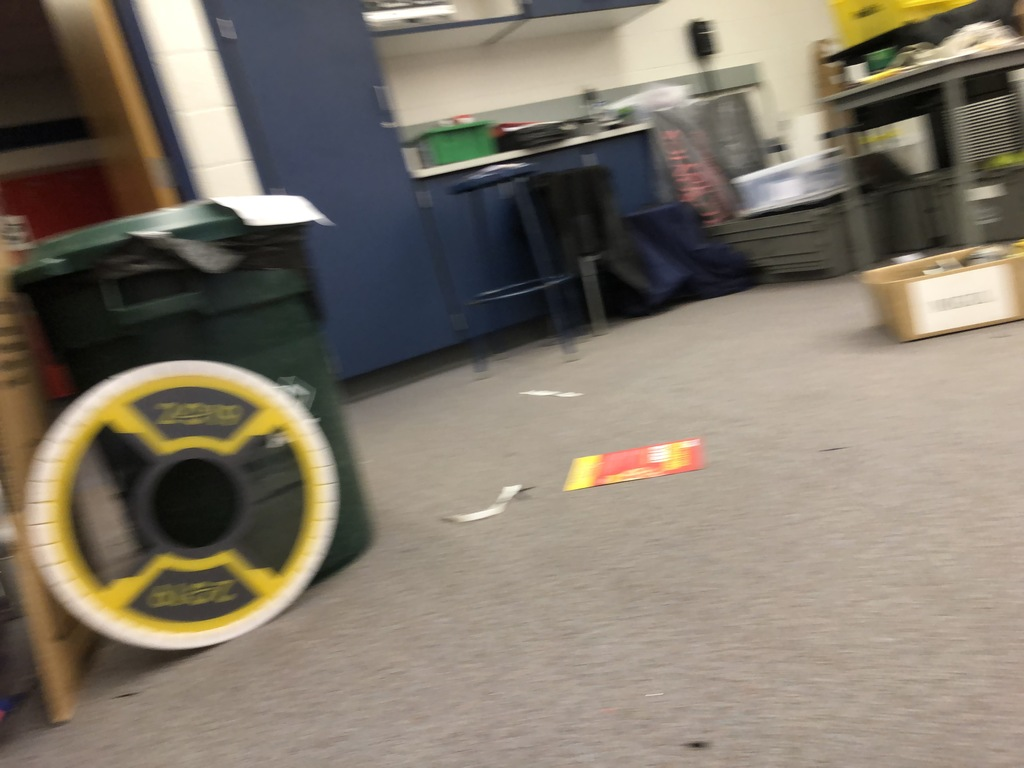hatch_panel: (1, 346, 367, 656)
